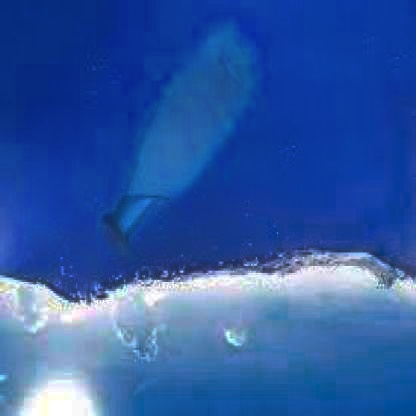gbottle: (97, 11, 263, 257)
